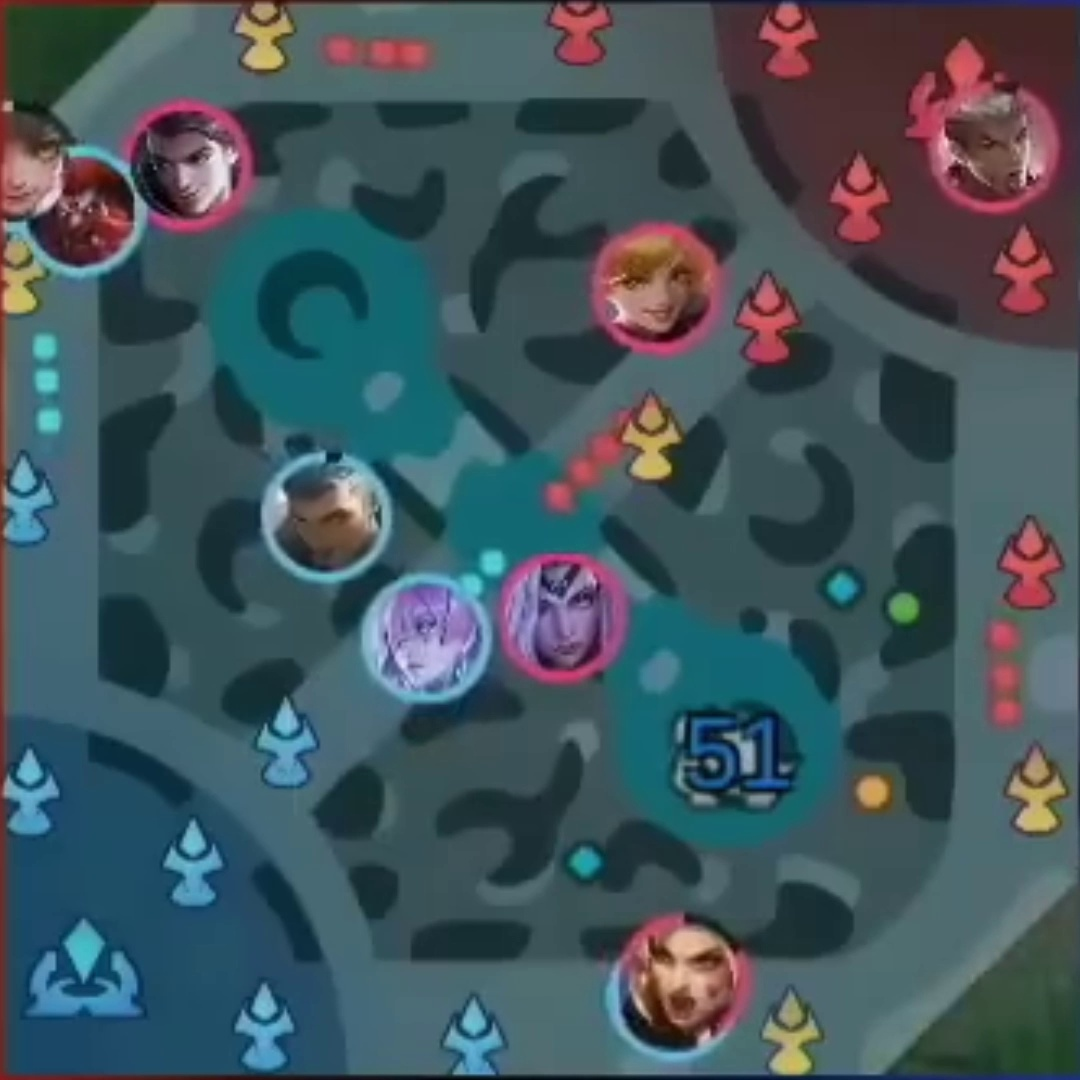Chou: (955, 100, 1032, 199)
Claude: (146, 116, 230, 213)
Fanny: (613, 241, 704, 331)
Fredrinn: (279, 465, 368, 574)
Masha: (643, 928, 732, 1025)
Minotaur: (43, 160, 128, 258)
Novaria: (379, 586, 477, 687)
Valentina: (519, 565, 607, 667)
Wanwan: (5, 111, 52, 220)
